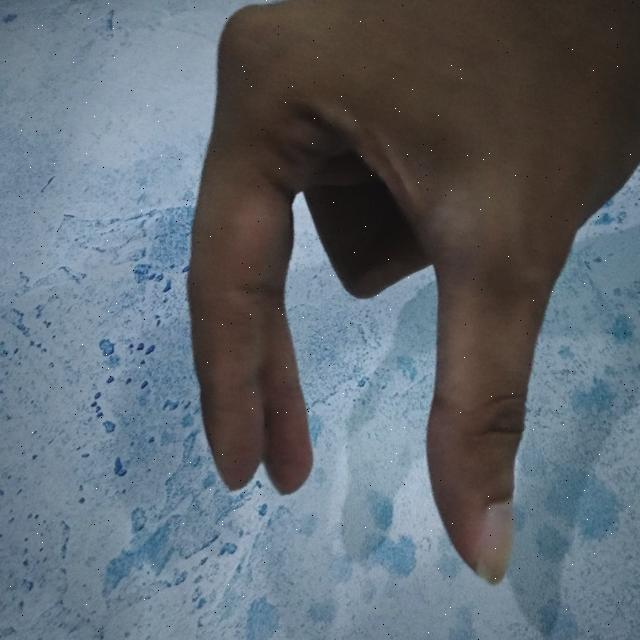Q: (166, 0, 640, 604)
